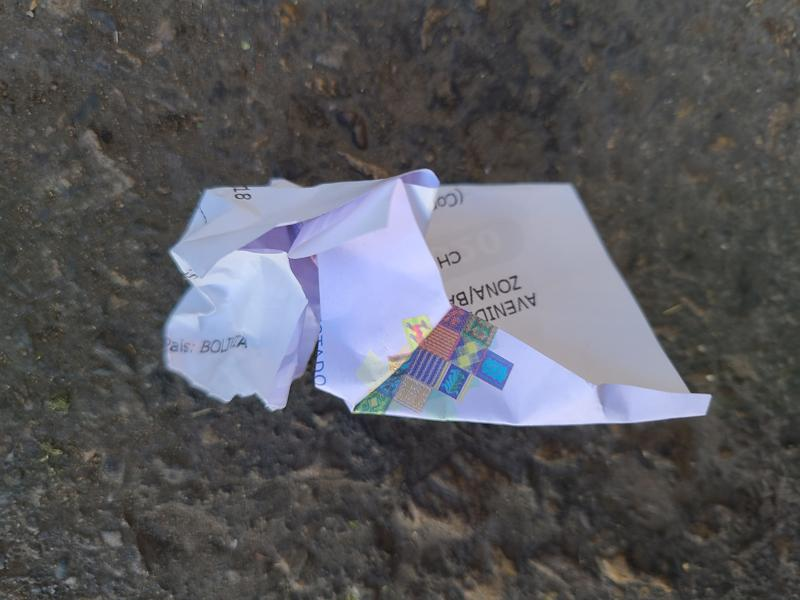papel: (162, 169, 711, 430)
